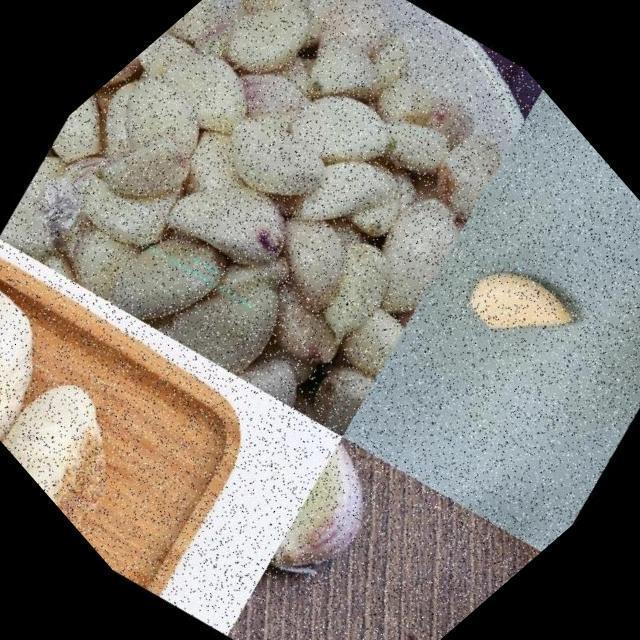garlic: (0, 0, 628, 521), (235, 424, 433, 616), (0, 338, 178, 539), (442, 230, 599, 388), (0, 251, 110, 457), (334, 583, 472, 640)
